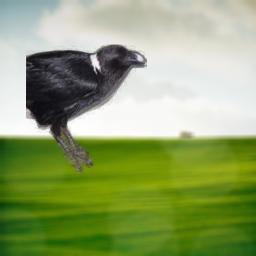Crow: (26, 44, 147, 174)
